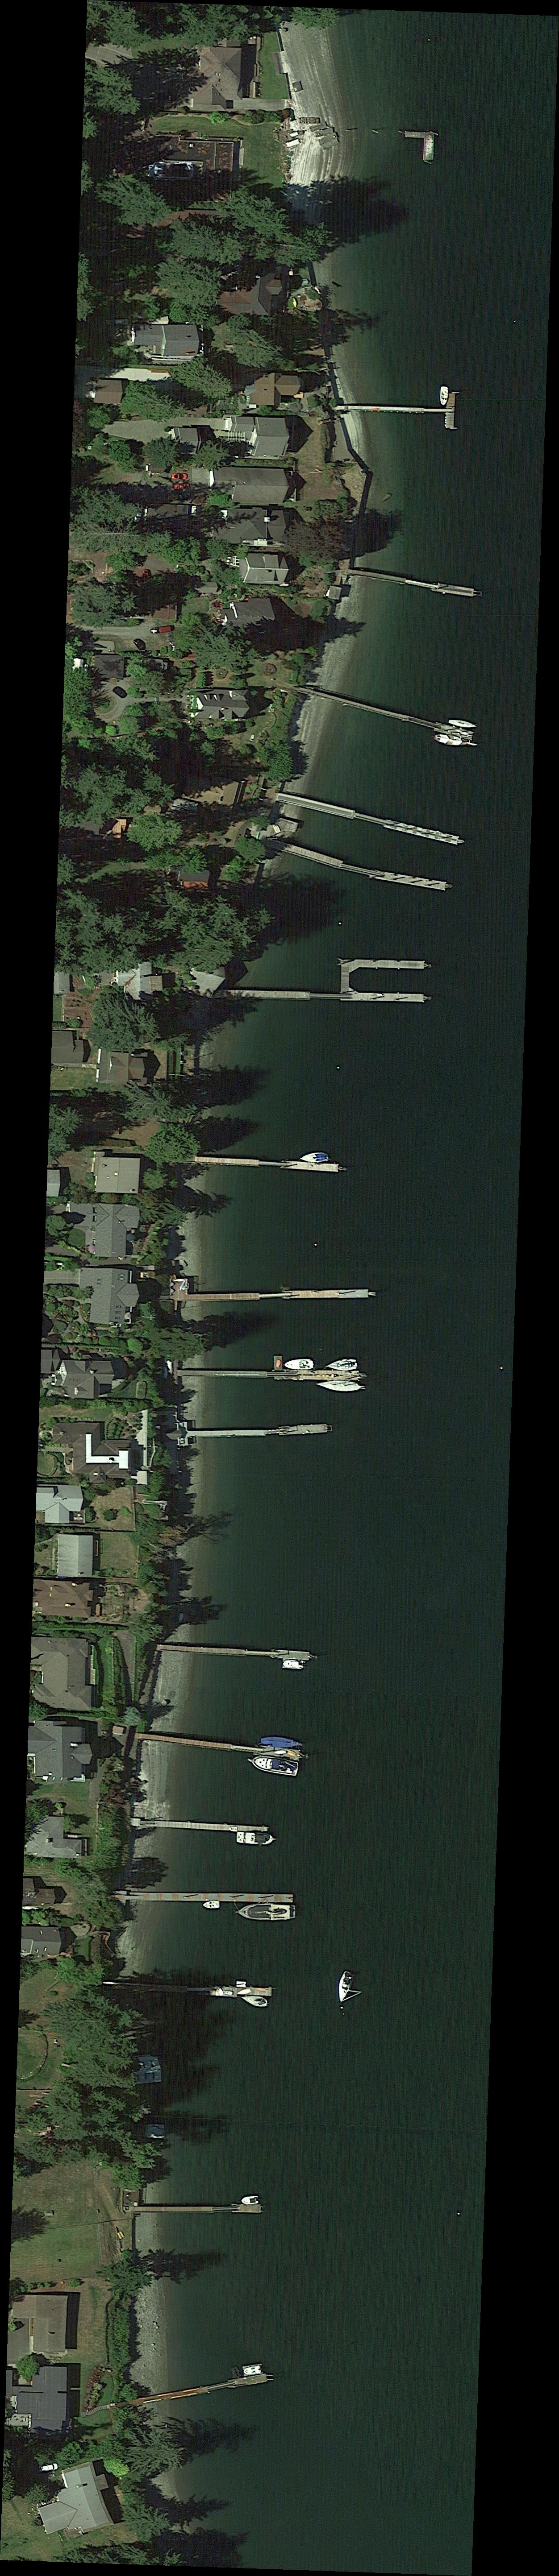harbor: (265, 831, 447, 900), (214, 958, 431, 1005), (276, 792, 459, 846), (299, 687, 474, 741), (140, 1732, 301, 1761), (136, 2372, 270, 2407), (350, 391, 455, 430), (349, 568, 475, 598), (102, 1980, 271, 1996), (178, 1423, 330, 1441), (159, 1644, 311, 1661), (196, 1157, 339, 1173), (186, 1290, 368, 1301), (127, 1891, 293, 1902), (140, 1819, 268, 1833), (178, 1370, 360, 1380), (140, 2203, 263, 2213)
ship: (248, 1755, 299, 1779), (233, 1902, 296, 1922), (431, 731, 477, 751), (334, 1970, 360, 2004), (235, 1830, 276, 1848), (148, 163, 192, 179), (316, 1380, 365, 1393), (260, 1736, 303, 1750), (324, 1359, 360, 1372), (283, 1357, 314, 1370), (447, 718, 477, 731), (242, 1996, 271, 2009), (299, 1152, 329, 1163), (281, 1659, 306, 1671), (242, 2362, 263, 2376), (240, 2193, 263, 2205), (439, 386, 449, 406), (202, 1901, 220, 1909)
